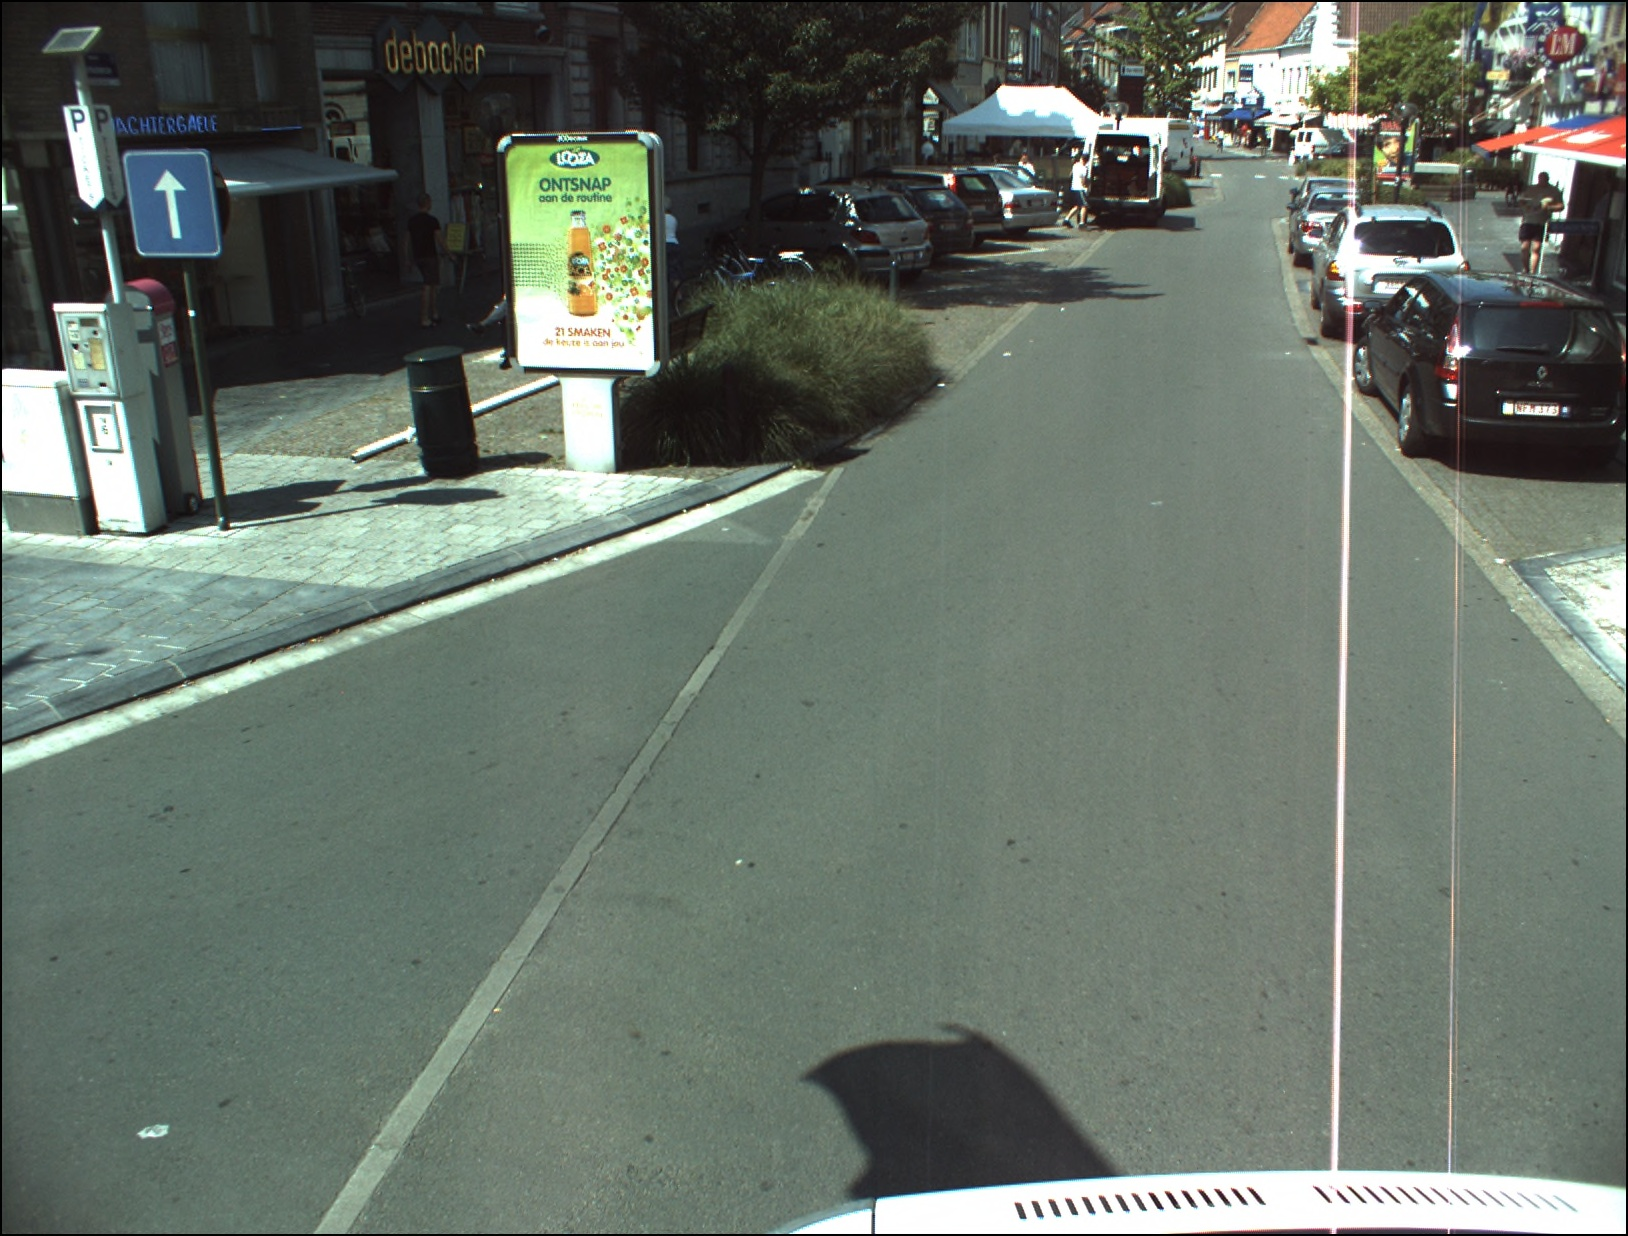oneway: (122, 152, 219, 254)
